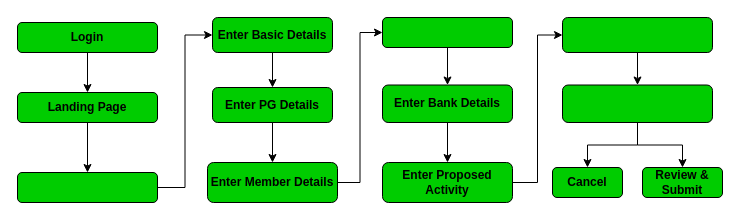
The diagram is 740 pixels wide and 220 high, and some of its shapes have lost their labels. The shapes that lost their labels are listed below. From the top down, each one's centre as x and y in pixels, then its label:
At (447,32): "Enter Amount Recevied".
At (637,34): "Enter Activity Plan".
At (637,103): "Upload Documents".
At (87,187): "Select Producer Group".
